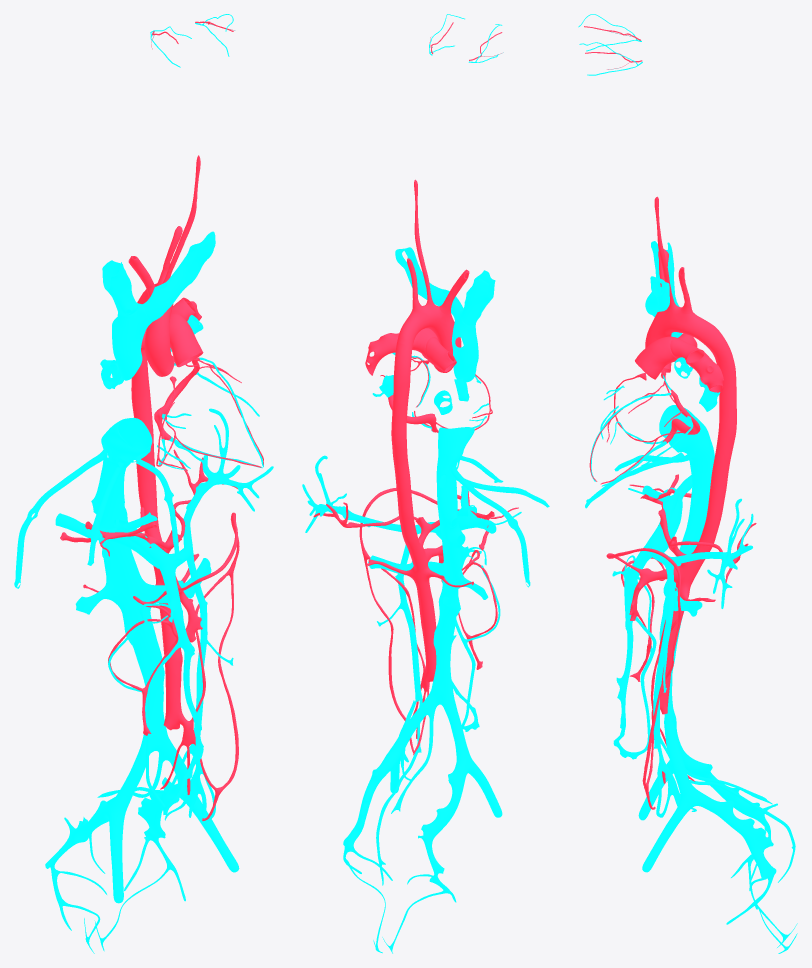
The model's file is gefaesse-male-mobil.glb.
3 renders of one model, left to right at view 1: azimuth 30°, elevation 25°; view 2: azimuth 150°, elevation 25°; view 3: azimuth 270°, elevation 25°, orthographic. The views are drawn at different scales.
Parts seen in each view (by area): view 1: 0:70:VH_M_inferior_vena_cava_b, 0:30:VH_M_descending_aorta_b, 0:125:VH_M_superior_mesenteric_vein, 0:69:VH_M_inferior_vena_cava_a, 0:149:VH_M_splenic_vein, 0:53:VH_M_brachiocephalic_vein_L, 0:72:VH_M_superior_vena_cava, 0:91:VH_M_marginal_artery_of_Drummond, 0:29:VH_M_descending_aorta_a, 0:54:VH_M_brachiocephalic_vein_R, 0:109:VH_M_inferior_mesenteric_vein, 0:144:VH_M_right_hepatic_vein (+18 smaller); view 2: 0:70:VH_M_inferior_vena_cava_b, 0:30:VH_M_descending_aorta_b, 0:29:VH_M_descending_aorta_a, 0:69:VH_M_inferior_vena_cava_a, 0:115:VH_M_internal_iliac_vein_R, 0:24:VH_M_aortic_arch, 0:72:VH_M_superior_vena_cava, 0:149:VH_M_splenic_vein, 0:114:VH_M_internal_iliac_vein_L, 0:54:VH_M_brachiocephalic_vein_R, 0:53:VH_M_brachiocephalic_vein_L, 0:91:VH_M_marginal_artery_of_Drummond (+8 smaller); view 3: 0:29:VH_M_descending_aorta_a, 0:30:VH_M_descending_aorta_b, 0:70:VH_M_inferior_vena_cava_b, 0:69:VH_M_inferior_vena_cava_a, 0:114:VH_M_internal_iliac_vein_L, 0:24:VH_M_aortic_arch, 0:149:VH_M_splenic_vein, 0:125:VH_M_superior_mesenteric_vein, 0:48:VH_M_pulmonary_artery_L, 0:109:VH_M_inferior_mesenteric_vein, 0:115:VH_M_internal_iliac_vein_R, 0:91:VH_M_marginal_artery_of_Drummond (+13 smaller).
Boxes of the visible parts, <box> form: 0:70:VH_M_inferior_vena_cava_b: <box>91,474,169,753</box>; 0:30:VH_M_descending_aorta_b: <box>136,459,182,730</box>; 0:125:VH_M_superior_mesenteric_vein: <box>158,564,203,812</box>; 0:69:VH_M_inferior_vena_cava_a: <box>101,417,152,482</box>; 0:149:VH_M_splenic_vein: <box>170,408,273,567</box>; 0:53:VH_M_brachiocephalic_vein_L: <box>142,231,215,321</box>; 0:72:VH_M_superior_vena_cava: <box>112,303,152,380</box>; 0:91:VH_M_marginal_artery_of_Drummond: <box>179,512,239,820</box>; 0:29:VH_M_descending_aorta_a: <box>131,298,154,461</box>; 0:54:VH_M_brachiocephalic_vein_R: <box>102,260,137,315</box>; 0:109:VH_M_inferior_mesenteric_vein: <box>186,547,207,755</box>; 0:144:VH_M_right_hepatic_vein: <box>14,449,107,588</box>; 0:70:VH_M_inferior_vena_cava_b: <box>429,489,465,707</box>; 0:30:VH_M_descending_aorta_b: <box>396,485,436,682</box>; 0:29:VH_M_descending_aorta_a: <box>391,343,412,489</box>; 0:69:VH_M_inferior_vena_cava_a: <box>436,427,474,493</box>; 0:115:VH_M_internal_iliac_vein_R: <box>418,762,468,883</box>; 0:24:VH_M_aortic_arch: <box>397,304,459,348</box>; 0:72:VH_M_superior_vena_cava: <box>451,310,478,382</box>; 0:149:VH_M_splenic_vein: <box>302,455,440,534</box>; 0:114:VH_M_internal_iliac_vein_L: <box>343,752,399,852</box>; 0:54:VH_M_brachiocephalic_vein_R: <box>461,270,495,325</box>; 0:53:VH_M_brachiocephalic_vein_L: <box>395,247,463,319</box>; 0:91:VH_M_marginal_artery_of_Drummond: <box>359,487,437,753</box>; 0:29:VH_M_descending_aorta_a: <box>709,334,736,488</box>; 0:30:VH_M_descending_aorta_b: <box>657,485,726,714</box>; 0:70:VH_M_inferior_vena_cava_b: <box>659,470,712,722</box>; 0:69:VH_M_inferior_vena_cava_a: <box>659,405,714,472</box>; 0:114:VH_M_internal_iliac_vein_L: <box>696,791,776,881</box>; 0:24:VH_M_aortic_arch: <box>647,306,721,348</box>; 0:149:VH_M_splenic_vein: <box>645,498,753,608</box>; 0:125:VH_M_superior_mesenteric_vein: <box>613,546,651,753</box>; 0:48:VH_M_pulmonary_artery_L: <box>670,338,723,392</box>; 0:109:VH_M_inferior_mesenteric_vein: <box>653,561,673,749</box>; 0:115:VH_M_internal_iliac_vein_R: <box>684,757,777,847</box>; 0:91:VH_M_marginal_artery_of_Drummond: <box>606,548,681,809</box>.
Bounding box in the file's own units: 0.2361 × 0.8718 × 0.1874.
